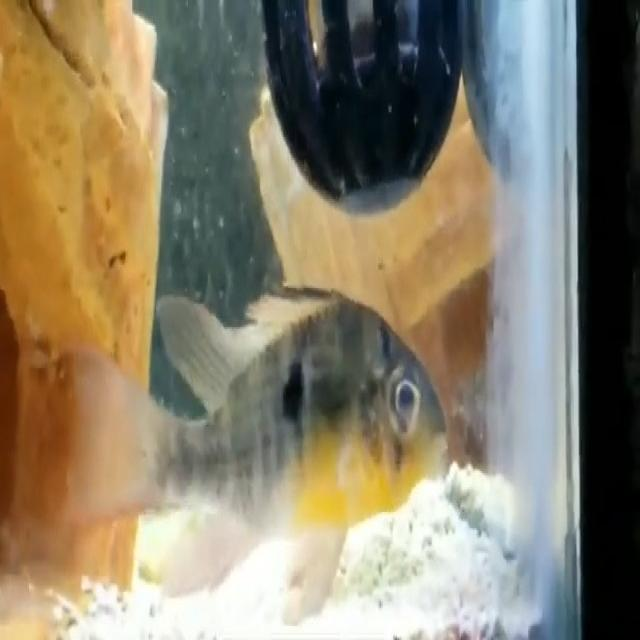fish: (64, 278, 455, 618)
